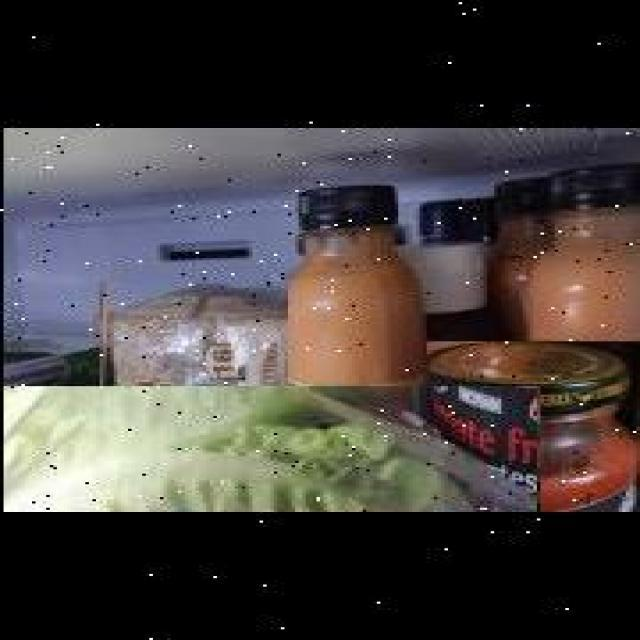bread: (100, 282, 284, 439)
salad: (0, 386, 537, 512)
tomato_sauce: (426, 341, 640, 511)
